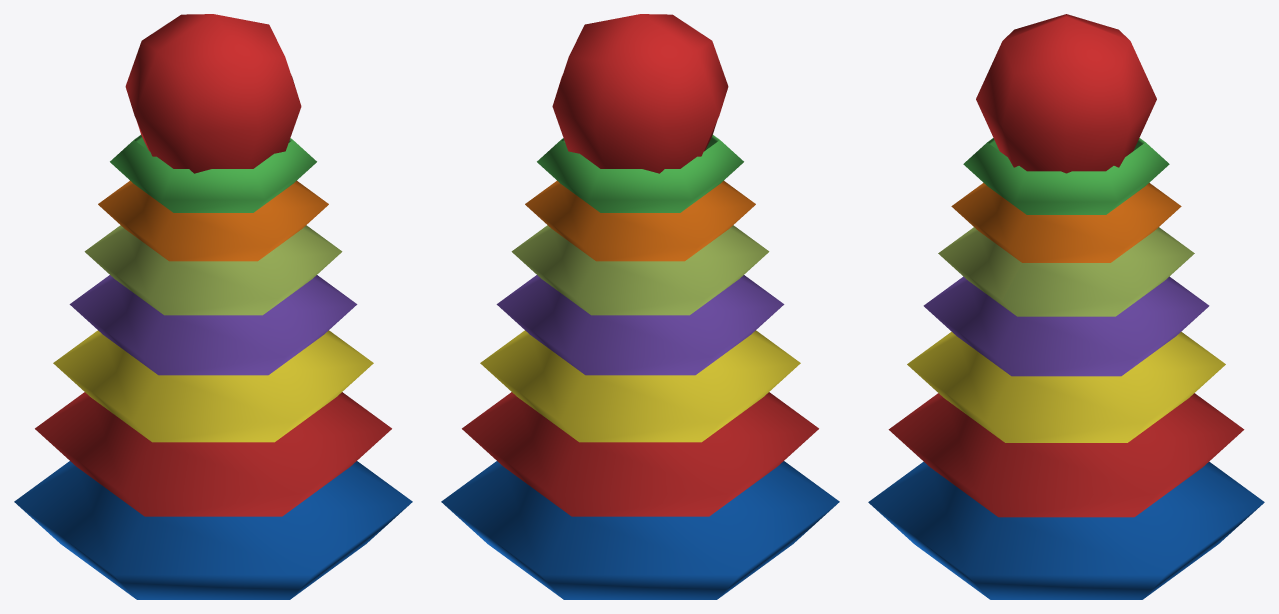
The picture shows the model from 3 angles, left to right: view 1: azimuth 30°, elevation 25°; view 2: azimuth 150°, elevation 25°; view 3: azimuth 270°, elevation 25°; orthographic projection.
Parts seen in each view (by area): view 1: toy_032; view 2: toy_032; view 3: toy_032.
Boxes of the visible parts, x1,y1,x2,y2 form: toy_032: (14,14,412,599); toy_032: (441,14,839,599); toy_032: (868,14,1264,599).
Size of the model in its own units: 0.2882 by 0.4877 by 0.3327.
1 material, 1 textured.
